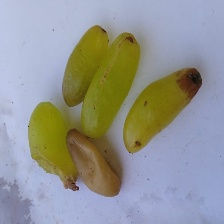grapes: (3, 16, 178, 176)
